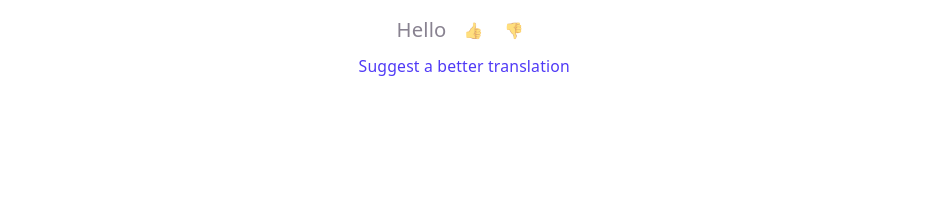
Test: suggesting › explains a blank suggestion and keeps the form open
The width and height of the screenshot is (934, 215).
Click the button "Suggest a better translation" at (464, 66), box [359,55,570,77]
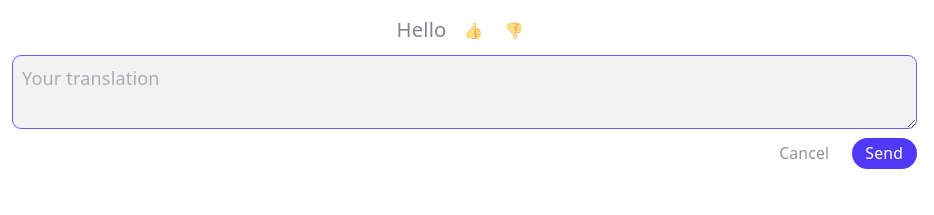
Submit the form, box [12,55,916,169]
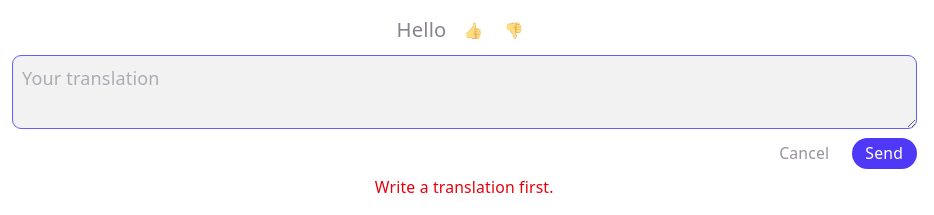
Check: the text box with placeholder "Your translation" is shown, box [12,55,916,129]
Check: the text "Write a translation first." is shown, box [375,176,554,198]
